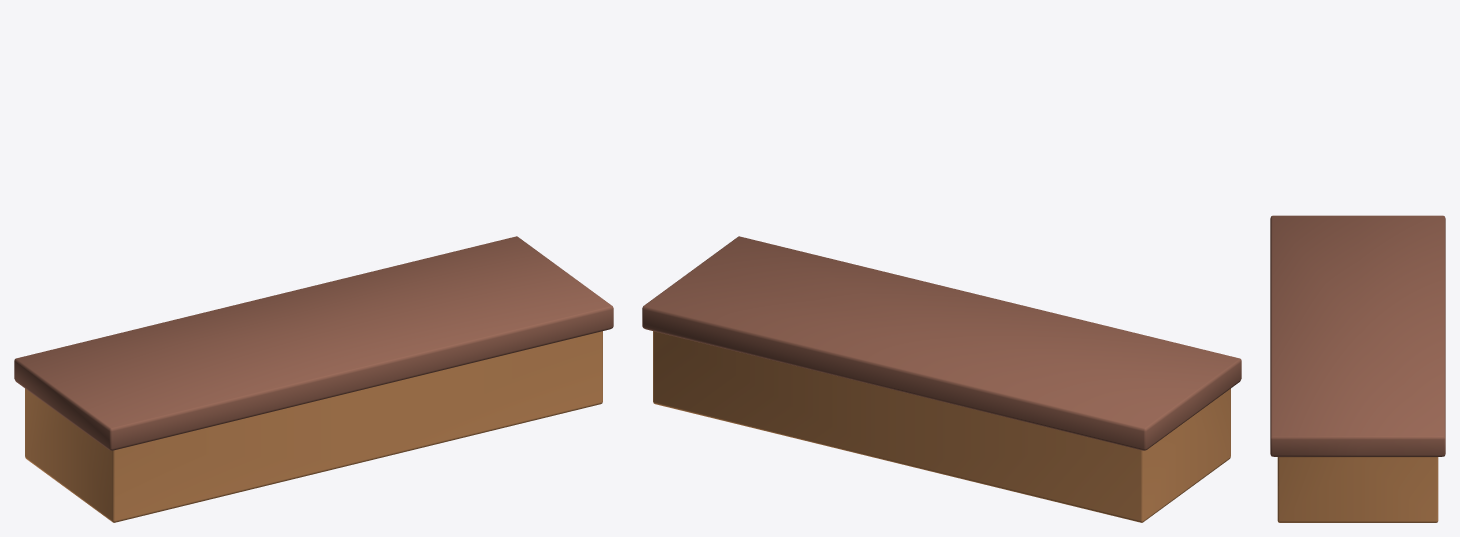
File: MDL_foldedcounter.fbx
3 renders of one model, left to right at view 1: azimuth 30°, elevation 25°; view 2: azimuth 150°, elevation 25°; view 3: azimuth 270°, elevation 25°, orthographic. The views are drawn at different scales.
Visible parts, largest first — view 1: mesh_counterdelivery; view 2: mesh_counterdelivery; view 3: mesh_counterdelivery.
Boxes of the visible parts, x1,y1,x2,y2 form: mesh_counterdelivery: (14, 236, 613, 522); mesh_counterdelivery: (642, 236, 1241, 522); mesh_counterdelivery: (1270, 215, 1445, 522).
Bounding box in the file's own units: 300 × 184 × 100.
1 material, 1 textured.
